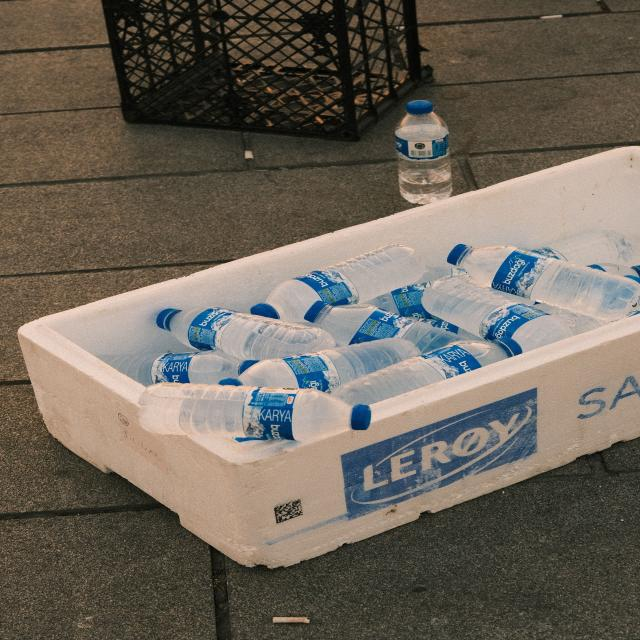Bottle: (448, 245, 639, 321), (140, 384, 370, 441), (251, 245, 423, 320), (423, 277, 573, 354), (334, 341, 511, 404), (221, 338, 419, 392), (157, 308, 335, 359), (305, 302, 456, 352), (367, 282, 477, 339), (396, 101, 452, 204), (99, 351, 245, 386), (532, 231, 633, 265), (534, 303, 607, 335), (588, 263, 639, 283)
